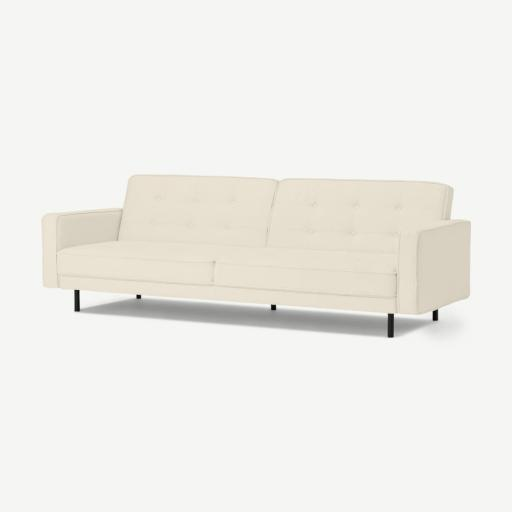back_cushion: (119, 175, 452, 255)
base: (61, 276, 394, 313)
left_arm: (397, 220, 469, 320)
legs: (387, 314, 393, 337), (74, 290, 79, 311), (432, 310, 438, 321), (271, 304, 275, 310), (136, 295, 141, 298)
right_arm: (42, 209, 122, 287)
seat_cushion: (57, 241, 396, 298)
two-seater: (0, 0, 511, 512)
